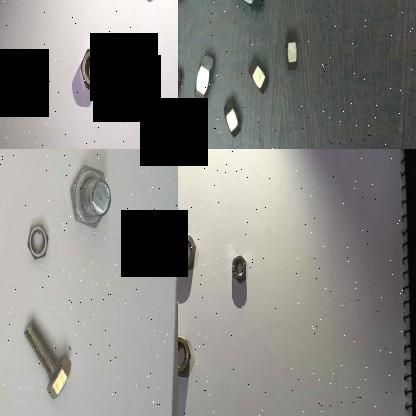Bolts: (19, 310, 74, 400), (63, 157, 113, 240)
NUTS: (192, 42, 217, 118), (219, 90, 247, 146), (78, 43, 106, 91), (247, 51, 274, 99), (26, 214, 53, 262), (280, 25, 304, 72), (178, 230, 198, 272), (178, 332, 193, 379), (229, 252, 248, 284), (178, 61, 188, 119), (223, 0, 271, 12)
